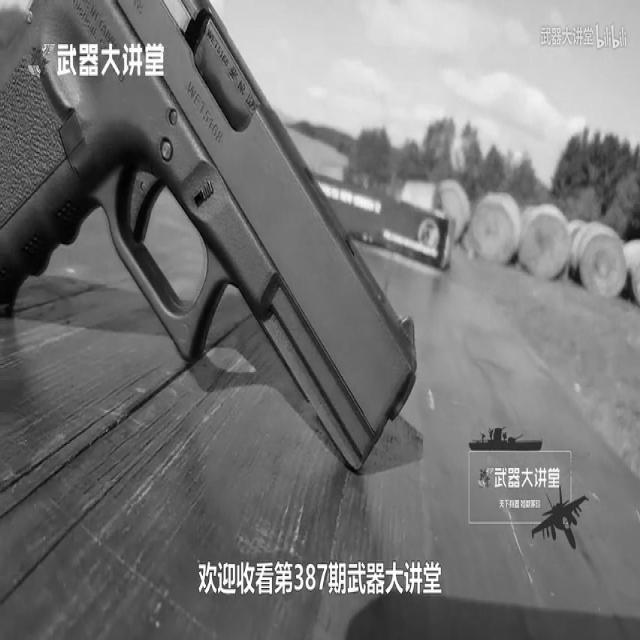Hand-Gun: (0, 0, 445, 511)
